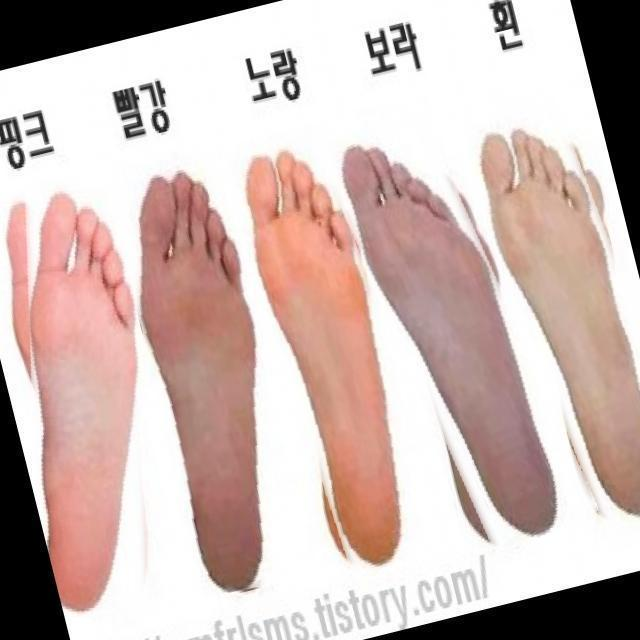No_Shoes: (347, 141, 640, 539), (250, 142, 402, 582), (24, 164, 155, 640), (162, 154, 253, 598)
